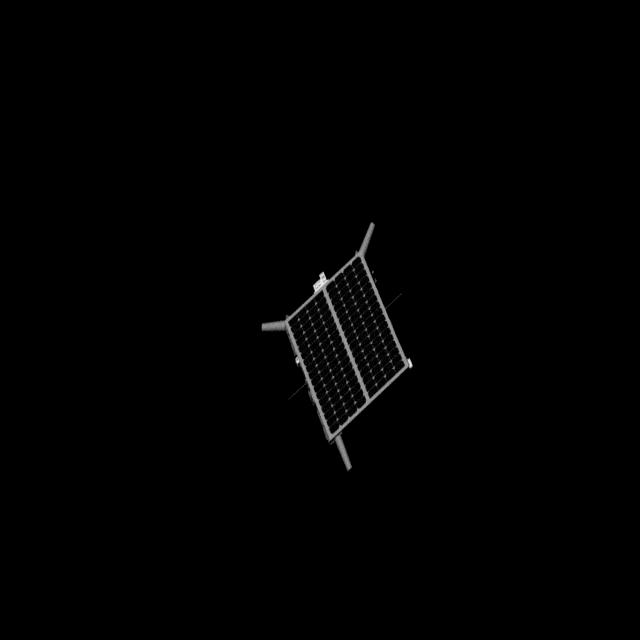satellite: (250, 220, 418, 470)
